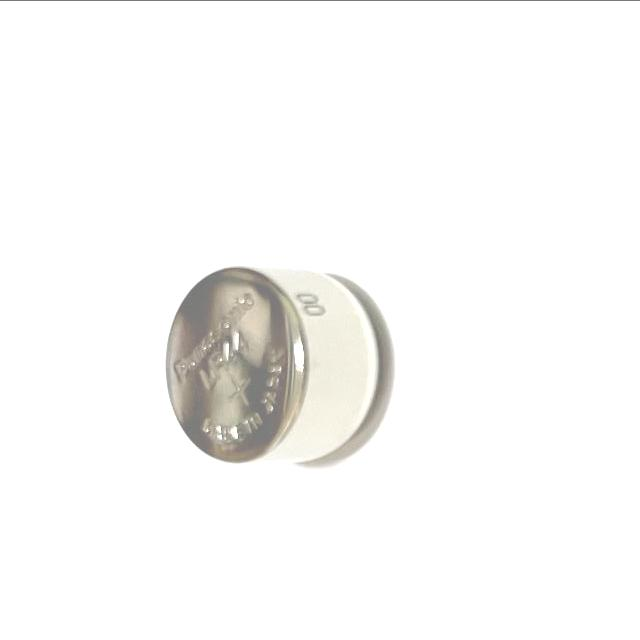COIN: (164, 265, 388, 466)
